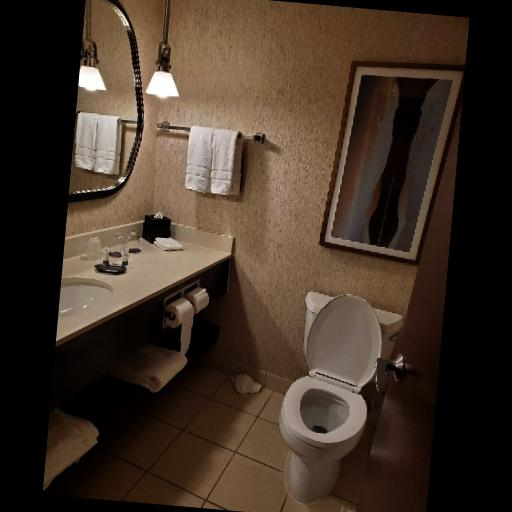clean mirror: (68, 0, 147, 195)
clean_sink: (61, 211, 235, 346)
clean_toilet: (252, 287, 403, 511)
folded_towel: (182, 123, 245, 199), (46, 409, 106, 488), (110, 343, 196, 398)
mess: (230, 364, 268, 402)
